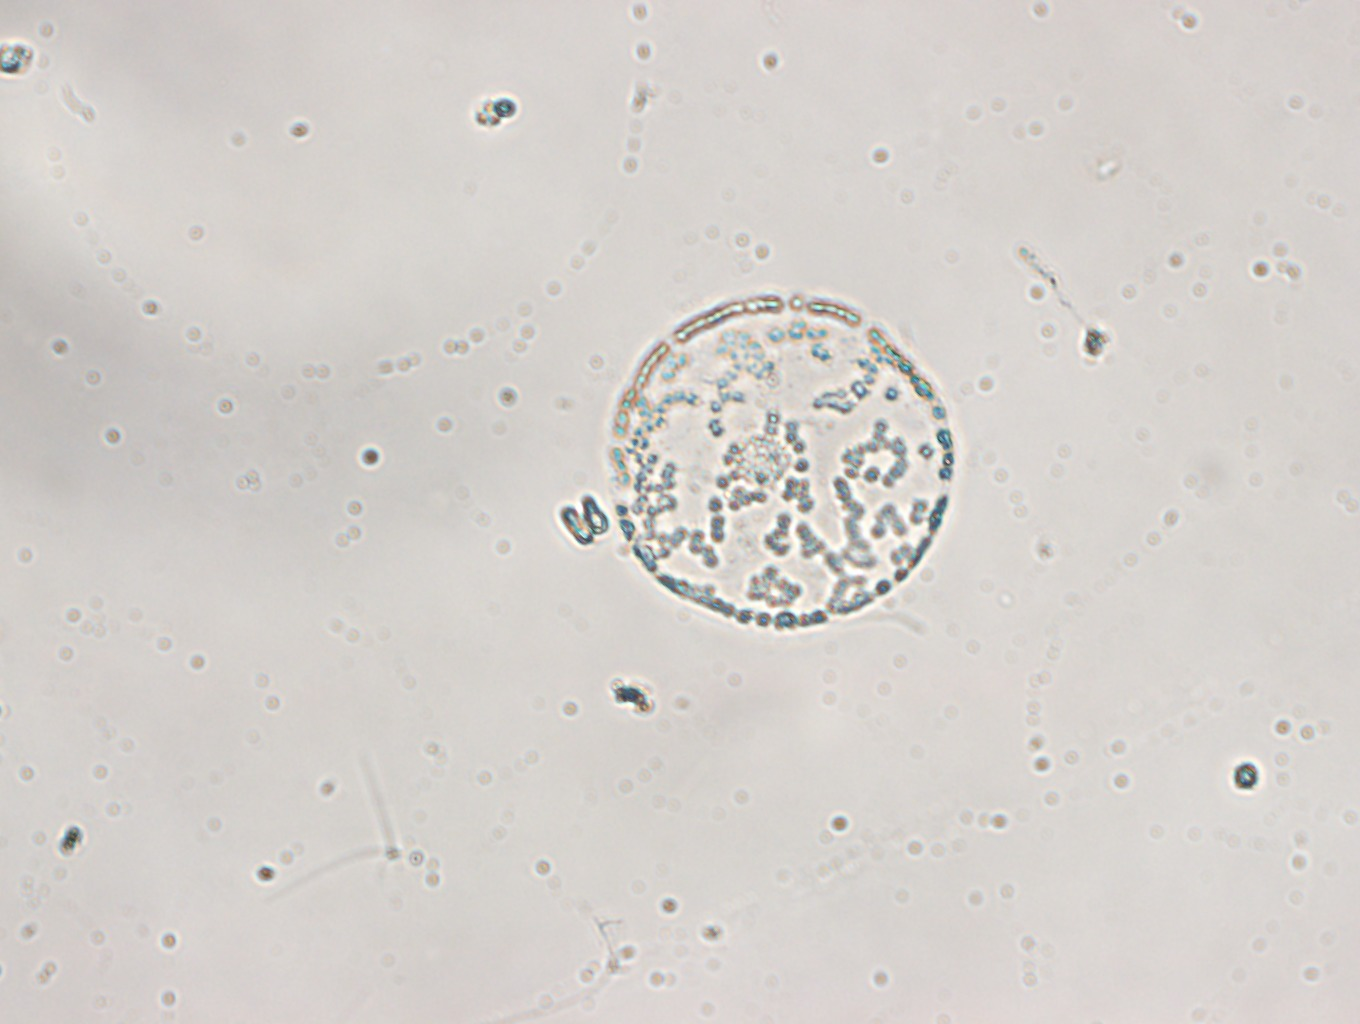coscinodiscus: (605, 294, 953, 630)
